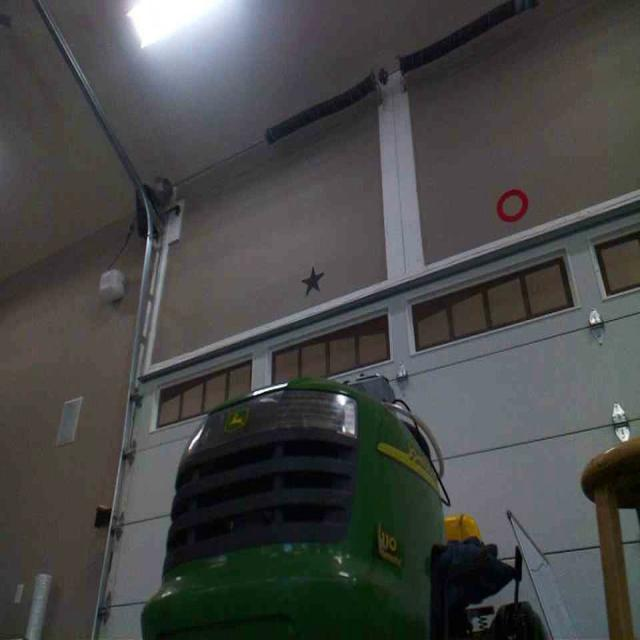ring_red: (497, 188, 526, 220)
star_black: (300, 263, 325, 294)
